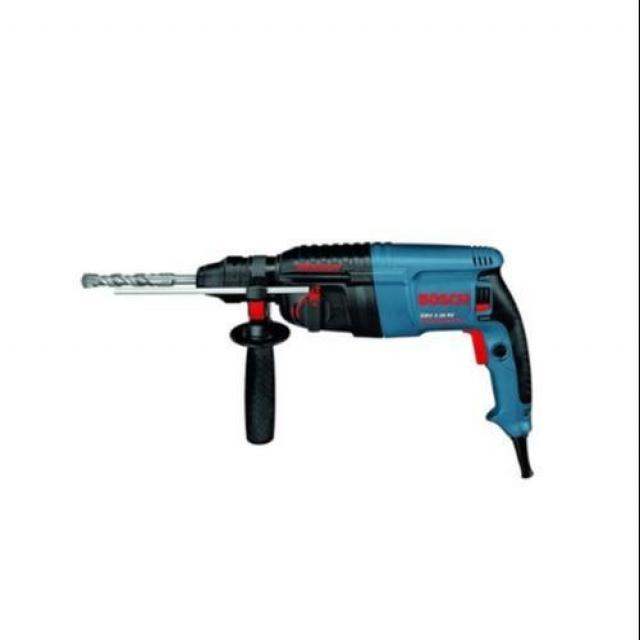drill: (81, 242, 533, 478)
